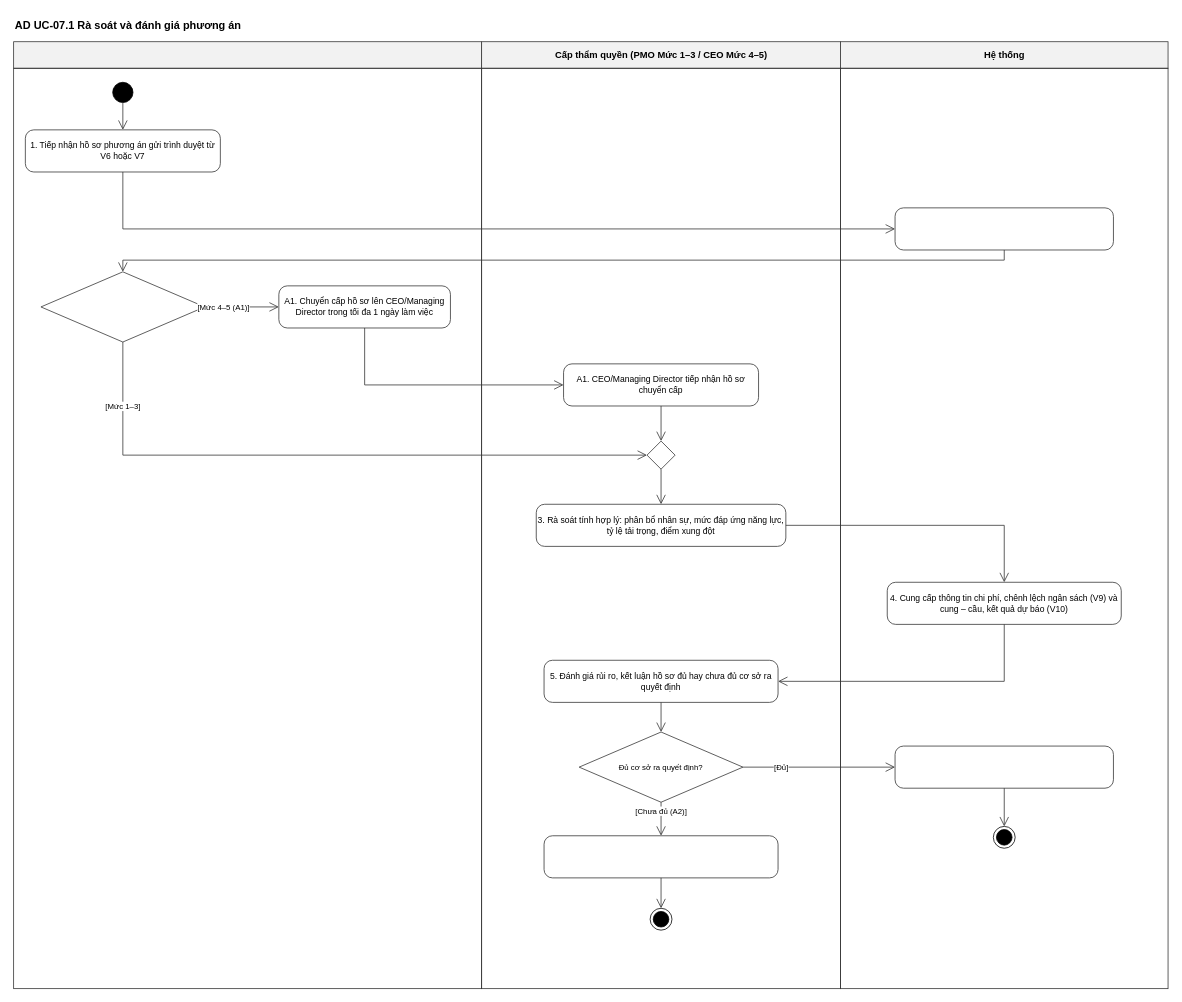
The diagram is 1182 pixels wide and 1002 high, and some of its shapes have lost their labels. Here are the shapes that lost their labels. From the top down, the centre of each, then its label:
At [247,54]: "PMO/Quản lý danh mục".
At [1003,228]: "2. Đối chiếu mức rủi ro với ma trận DoA, xác định cấp thẩm quyền".
At [122,306]: "Mức rủi ro?".
At [1003,766]: "6. Ghi nhận kết quả rà soát, chuyển hồ sơ sang UC-07.3 hoặc UC-07.4".
At [660,856]: "A2. Lập danh sách nội dung cần giải trình, bổ sung; chuyển UC-07.2".
